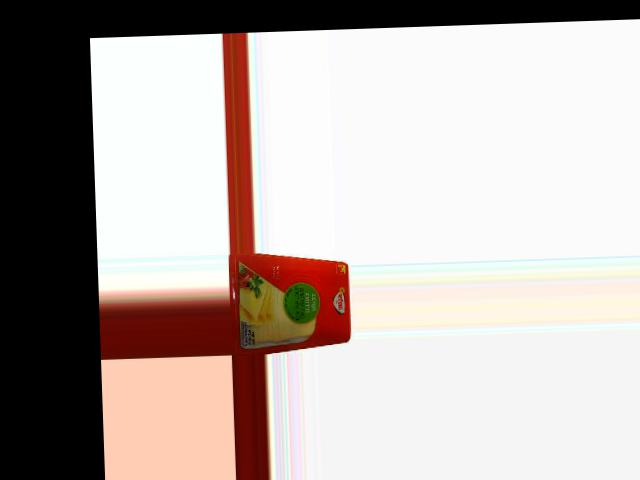cheese: (227, 249, 350, 353)
